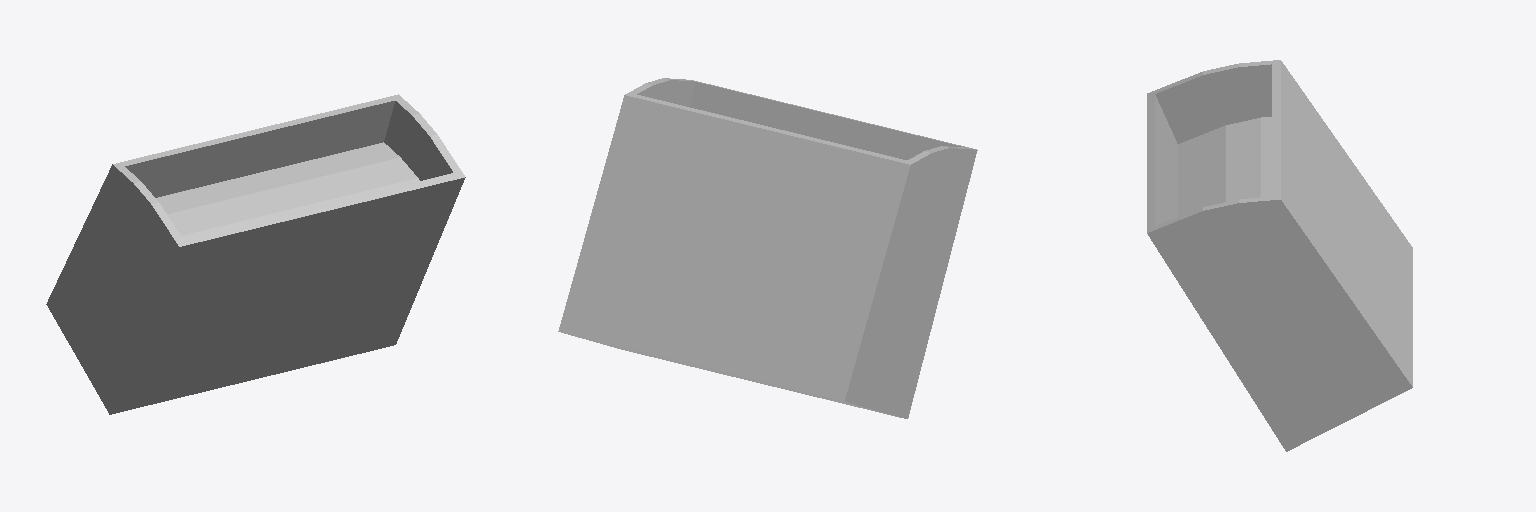
File: drawer.obj
3 renders of one model, left to right at view 1: azimuth 30°, elevation 25°; view 2: azimuth 150°, elevation 25°; view 3: azimuth 270°, elevation 25°, orthographic.
Visible parts, largest first — view 1: Cube.004; view 2: Cube.004; view 3: Cube.004.
Boxes of the visible parts, box(x1,y1,x2,y2) form: Cube.004: box(46, 94, 465, 414); Cube.004: box(558, 78, 977, 418); Cube.004: box(1147, 60, 1412, 451).
Size of the model in its own units: 0.9128 by 0.7698 by 0.7353.